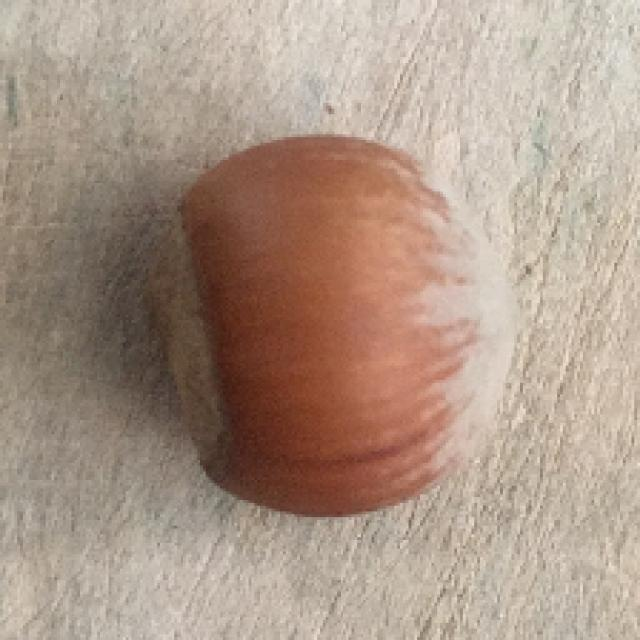qualityHazelnut: (139, 131, 519, 519)
